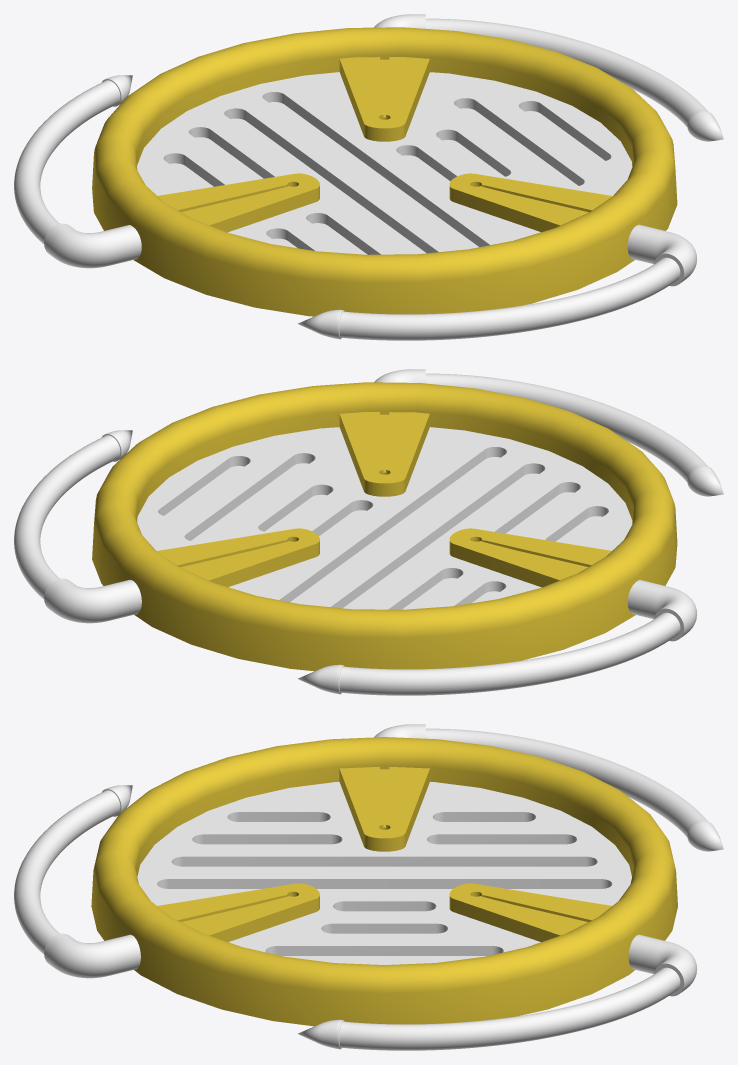
File: star_wars_hologran_projector.glb
3 views of the same model, one above another, from view 1: azimuth 30°, elevation 25°; view 2: azimuth 150°, elevation 25°; view 3: azimuth 270°, elevation 25° (orthographic).
Visible parts, largest first — view 1: hologram projector; view 2: hologram projector; view 3: hologram projector.
Boxes of the visible parts, x1,y1,x2,y2 form: hologram projector: [14, 14, 723, 340]; hologram projector: [14, 369, 723, 695]; hologram projector: [14, 724, 723, 1050].
Size of the model in its own units: 2.49 by 0.2 by 2.42.
